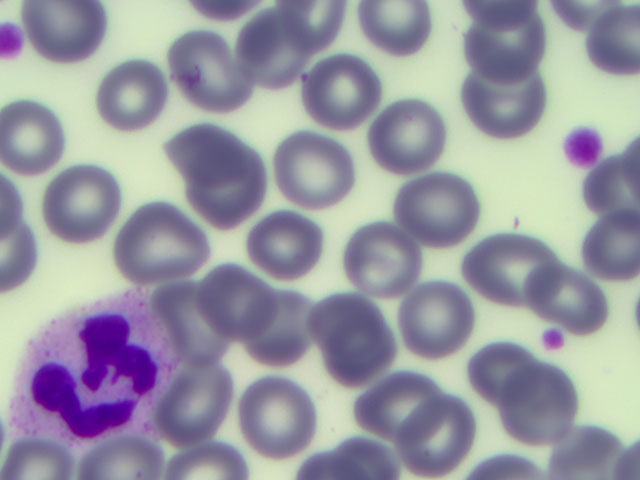Platelets: (560, 122, 607, 171), (1, 20, 34, 60), (538, 320, 573, 353)
RBC: (100, 60, 168, 131), (49, 167, 117, 238), (122, 207, 190, 278), (170, 118, 238, 189), (196, 149, 264, 220), (280, 135, 348, 206), (306, 56, 374, 127), (165, 34, 233, 105), (370, 96, 438, 167), (239, 18, 307, 89), (469, 71, 537, 142), (470, 12, 538, 83), (403, 171, 471, 242), (353, 223, 421, 294), (255, 210, 323, 281), (206, 268, 274, 339), (164, 281, 232, 352), (167, 367, 235, 438), (251, 384, 319, 455), (250, 292, 318, 363), (312, 284, 380, 355), (329, 321, 397, 392), (401, 280, 469, 351), (481, 226, 549, 297), (572, 217, 640, 288), (403, 396, 471, 467), (363, 371, 431, 442), (465, 331, 533, 402), (502, 368, 570, 439), (27, 1, 95, 71), (360, 1, 428, 71), (572, 1, 640, 71), (1, 102, 68, 173), (544, 277, 606, 333)
WBC: (10, 290, 175, 433)
